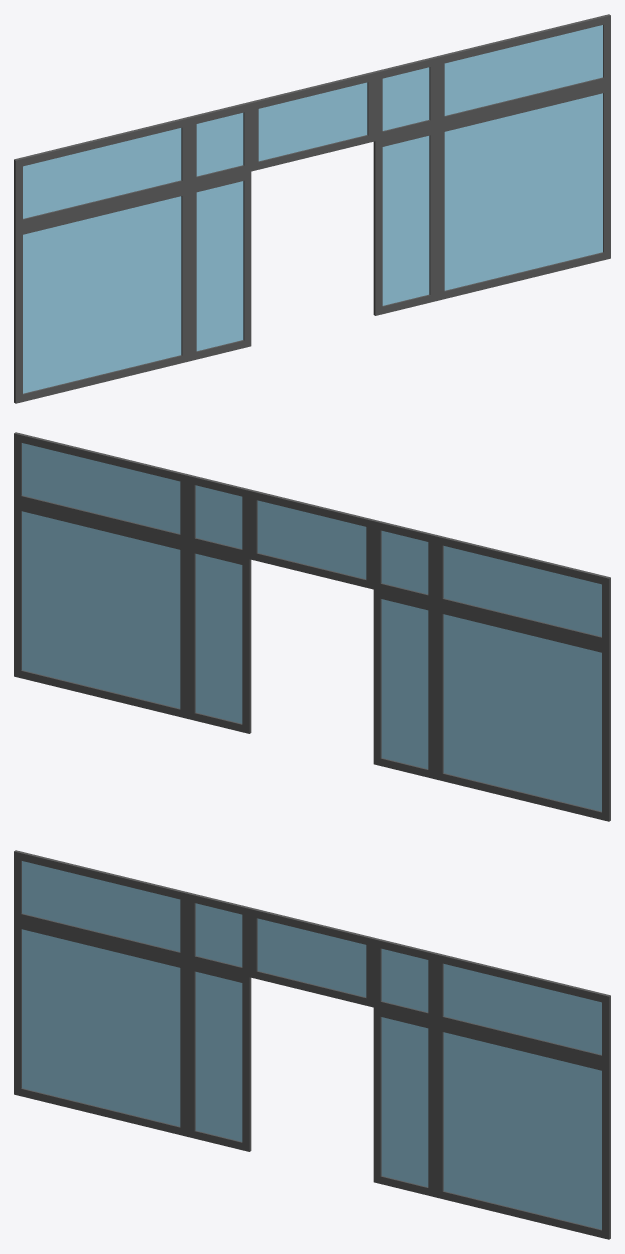
The model's file is doorframe.fbx.
3 views of the same model, one above another, from view 1: azimuth 30°, elevation 25°; view 2: azimuth 150°, elevation 25°; view 3: azimuth 330°, elevation 25° (orthographic).
Visible parts, largest first — view 1: Plane.003; view 2: Plane.003; view 3: Plane.003.
Part boxes in pixels (x1,y1,x2,y2): Plane.003: (14,14,610,403); Plane.003: (14,432,610,821); Plane.003: (14,850,610,1239).
Size of the model in its own units: 18 by 7.03 by 0.0913.
